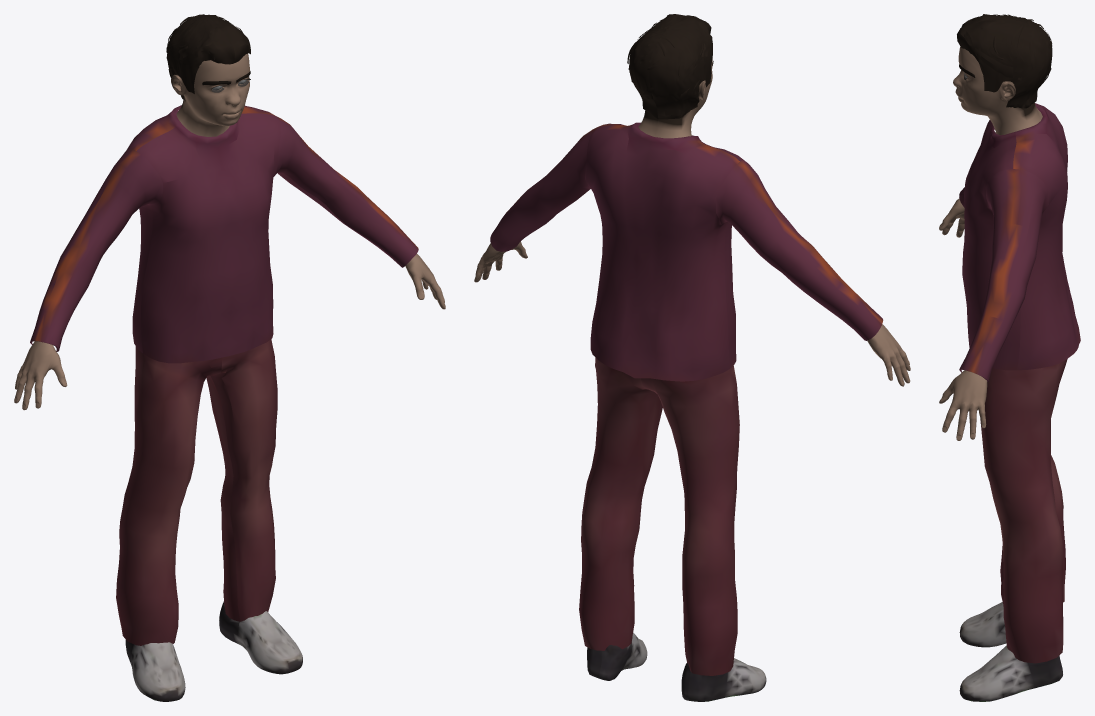
The model's file is 0130-People-cast-cooked-mh-04.glb.
The picture shows the model from 3 angles, left to right: view 1: azimuth 30°, elevation 25°; view 2: azimuth 150°, elevation 25°; view 3: azimuth 270°, elevation 25°; orthographic projection.
Parts seen in each view (by area): view 1: People: cast (cooked)/mh_04; view 2: People: cast (cooked)/mh_04; view 3: People: cast (cooked)/mh_04.
Boxes of the visible parts, x1,y1,x2,y2 form: People: cast (cooked)/mh_04: (14,14,445,701); People: cast (cooked)/mh_04: (474,14,910,701); People: cast (cooked)/mh_04: (939,14,1080,701).
Bounding box in the file's own units: 0.995 × 1.46 × 0.289.
